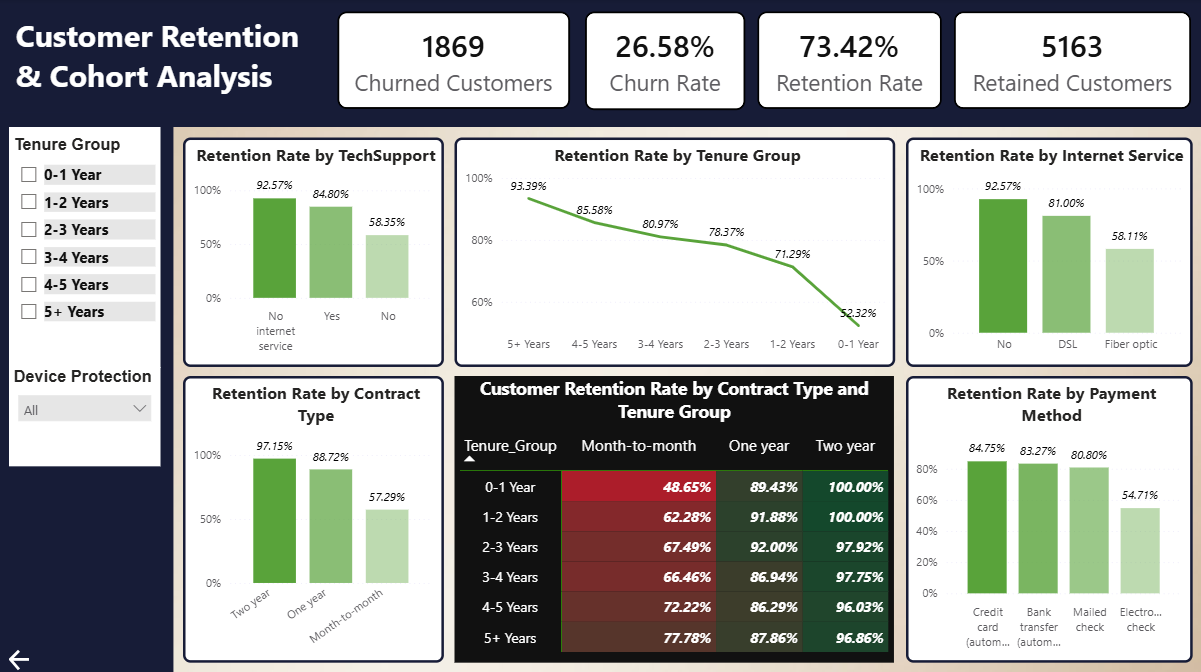

The dashboard page shown, as its layout file describes it:
{"tool":"powerbi","page":{"name":"Rentention Analysis","canvas":[1280,720],"ordinal":1},"visuals":[{"type":"shape","box":[0,81.3,187.1,638.7],"z":0},{"type":"shape","box":[0,1.6,1280.4,135.2],"z":1000},{"type":"slicer","title":"Tenure Group","fields":{"Values":["Cleaned_Dataset.Tenure_Group"]},"box":[13.2,136.1,160.6,255],"z":3000},{"type":"textbox","title":"Customer Retention & Cohort Analysis","box":[0,1.6,335.6,120],"z":4000},{"type":"cardVisual","fields":{"Data":["Cleaned_Dataset.Churn Rate"]},"box":[623.5,14.3,170.2,105],"z":5000},{"type":"cardVisual","fields":{"Data":["Cleaned_Dataset.Churned Customers"]},"box":[361.1,14.3,246.5,103.4],"z":6000},{"type":"cardVisual","fields":{"Data":["Cleaned_Dataset.Retention Rate"]},"box":[806.4,14.3,195.6,103.4],"z":7000},{"type":"cardVisual","fields":{"Data":["Cleaned_Dataset.Retained Customers"]},"box":[1014.8,14.3,251.3,103.4],"z":8000},{"type":"lineChart","title":"Retention Rate by Tenure Group","fields":{"Category":["Cleaned_Dataset.Tenure_Group"],"Y":["Cleaned_Dataset.Retention Rate"]},"box":[485.1,147.9,467.6,243.4],"z":9000},{"type":"columnChart","title":"Retention Rate by Internet Service","fields":{"Category":["Cleaned_Dataset.InternetService"],"Y":["Cleaned_Dataset.Retention Rate"]},"box":[963.9,147.9,303.8,243.4],"z":10000},{"type":"columnChart","fields":{"Category":["Cleaned_Dataset.TechSupport"],"Y":["Cleaned_Dataset.Retention Rate"]},"box":[197.2,147.9,276.8,243.4],"z":11000},{"type":"columnChart","title":"Retention Rate by Contract Type","fields":{"Y":["Cleaned_Dataset.Retention Rate"],"Category":["Cleaned_Dataset.Contract"]},"box":[197.2,400.8,276.8,303.8],"z":12000},{"type":"actionButton","box":[12.7,680.8,87.5,36.6],"z":13000},{"type":"slicer","title":"Device Protection","fields":{"Values":["Cleaned_Dataset.DeviceProtection"]},"box":[12.7,391.3,160.7,105],"z":14000},{"type":"pivotTable","title":"Customer Retention Rate by Contract Type and Tenure Group","fields":{"Rows":["Cleaned_Dataset.Tenure_Group"],"Columns":["Cleaned_Dataset.Contract"],"Values":["Cleaned_Dataset.Retention Rate"]},"box":[485.1,400.8,466,303.8],"z":15000},{"type":"columnChart","title":"Retention Rate by Payment Method","fields":{"Category":["Cleaned_Dataset.PaymentMethod"],"Y":["Cleaned_Dataset.Retention Rate"]},"box":[963.9,400.8,303.8,303.8],"z":16000}]}

Visuals, with their boxes in screenshot pixels (x1, y1, x2, y2), scaled from the page's 1280x720 canvas onto the 1201x672 screenshot:
shape: [0,76,176,671]
shape: [0,1,1200,128]
"Tenure Group" slicer: [12,127,163,365]
"Customer Retention & Cohort Analysis" textbox: [0,1,315,113]
cardVisual - Cleaned_Dataset.Churn Rate: [585,13,745,111]
cardVisual - Cleaned_Dataset.Churned Customers: [339,13,570,110]
cardVisual - Cleaned_Dataset.Retention Rate: [757,13,940,110]
cardVisual - Cleaned_Dataset.Retained Customers: [952,13,1188,110]
"Retention Rate by Tenure Group" lineChart: [455,138,894,365]
"Retention Rate by Internet Service" columnChart: [904,138,1189,365]
columnChart - Cleaned_Dataset.TechSupport x Cleaned_Dataset.Retention Rate: [185,138,445,365]
"Retention Rate by Contract Type" columnChart: [185,374,445,658]
actionButton: [12,635,94,670]
"Device Protection" slicer: [12,365,163,463]
"Customer Retention Rate by Contract Type and Tenure Group" pivotTable: [455,374,892,658]
"Retention Rate by Payment Method" columnChart: [904,374,1189,658]
